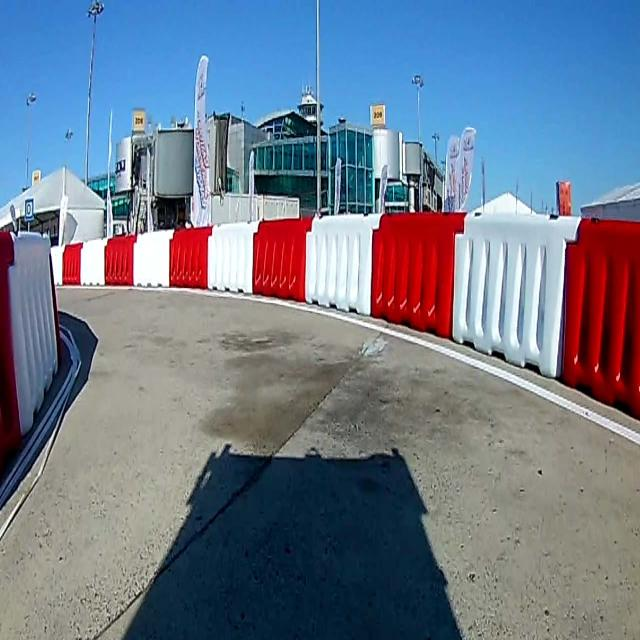durak: (24, 197, 34, 220)
